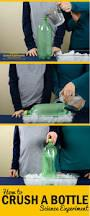Plastic bottle: (22, 97, 68, 120), (37, 140, 58, 178), (36, 16, 53, 59)
